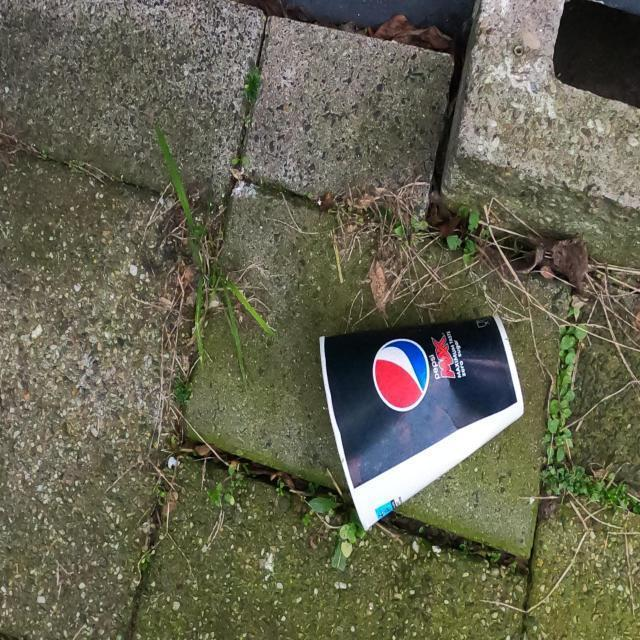Cup: (315, 304, 527, 536)
